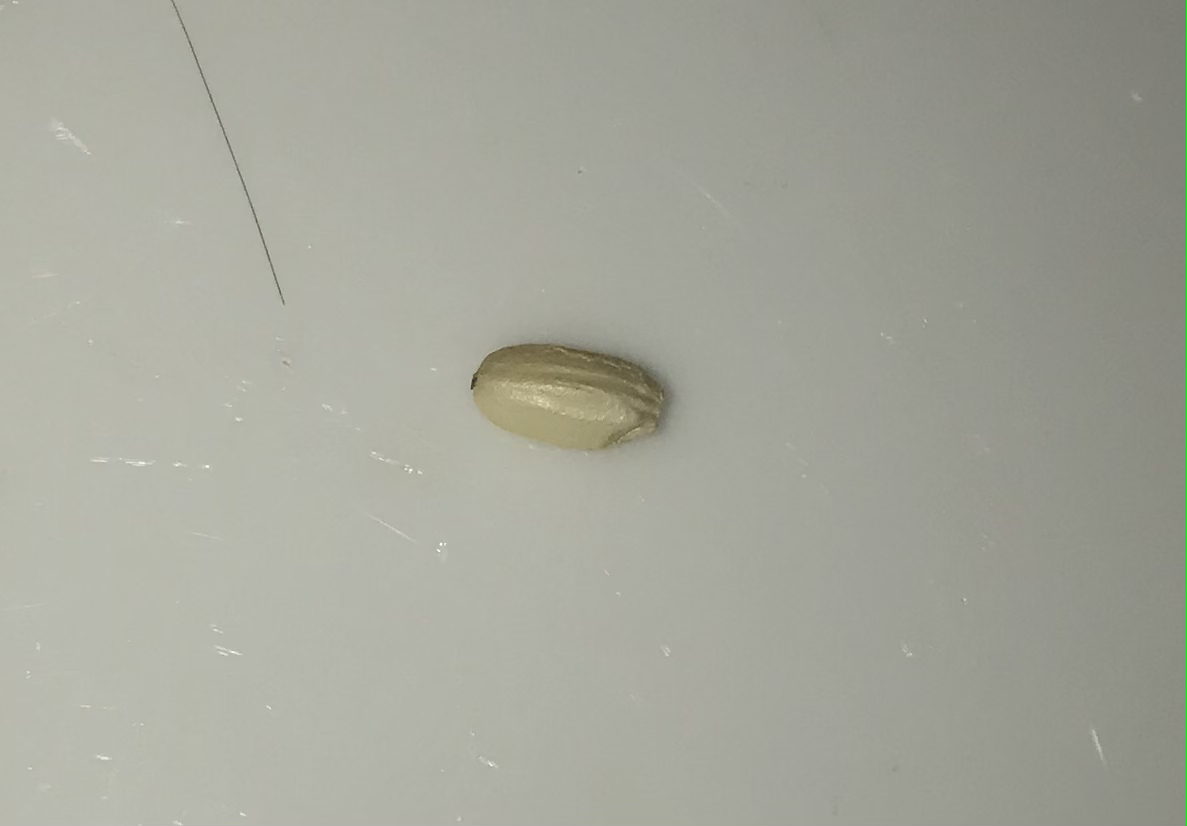Gao Lut Bac: (464, 339, 677, 466)
